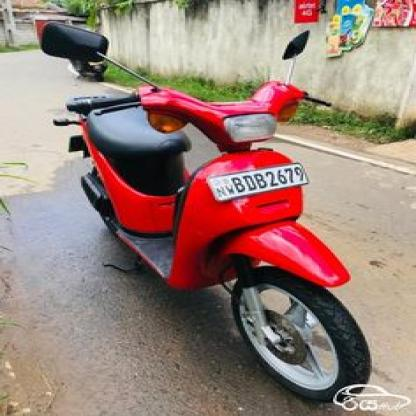bike front: (33, 21, 376, 404)
number plate: (209, 163, 311, 199)
